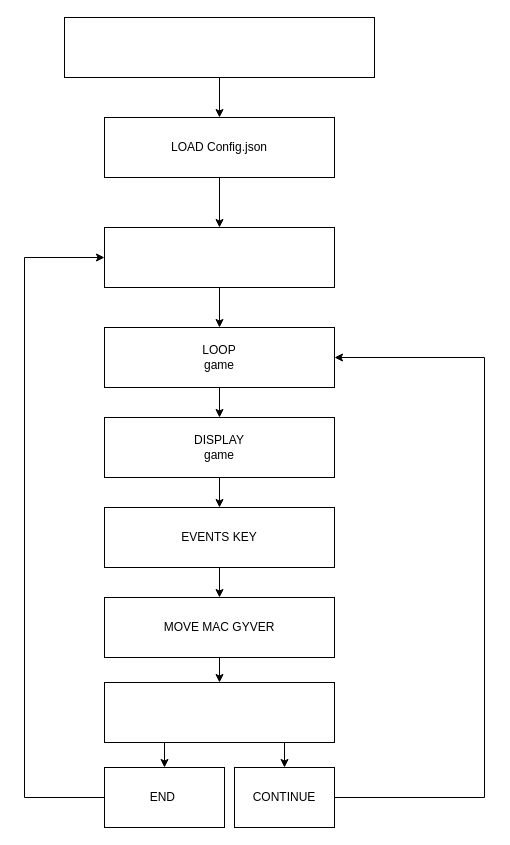
This 510x845 diagram has some shape labels left out. The centre of each missing label's shape, as x and y in pixels:
"ACTION CONTROL" belongs at (x=219, y=712).
"INIT map, object, mac gyver, guardian," belongs at (x=219, y=257).
"MAIN.PY" belongs at (x=219, y=47).
